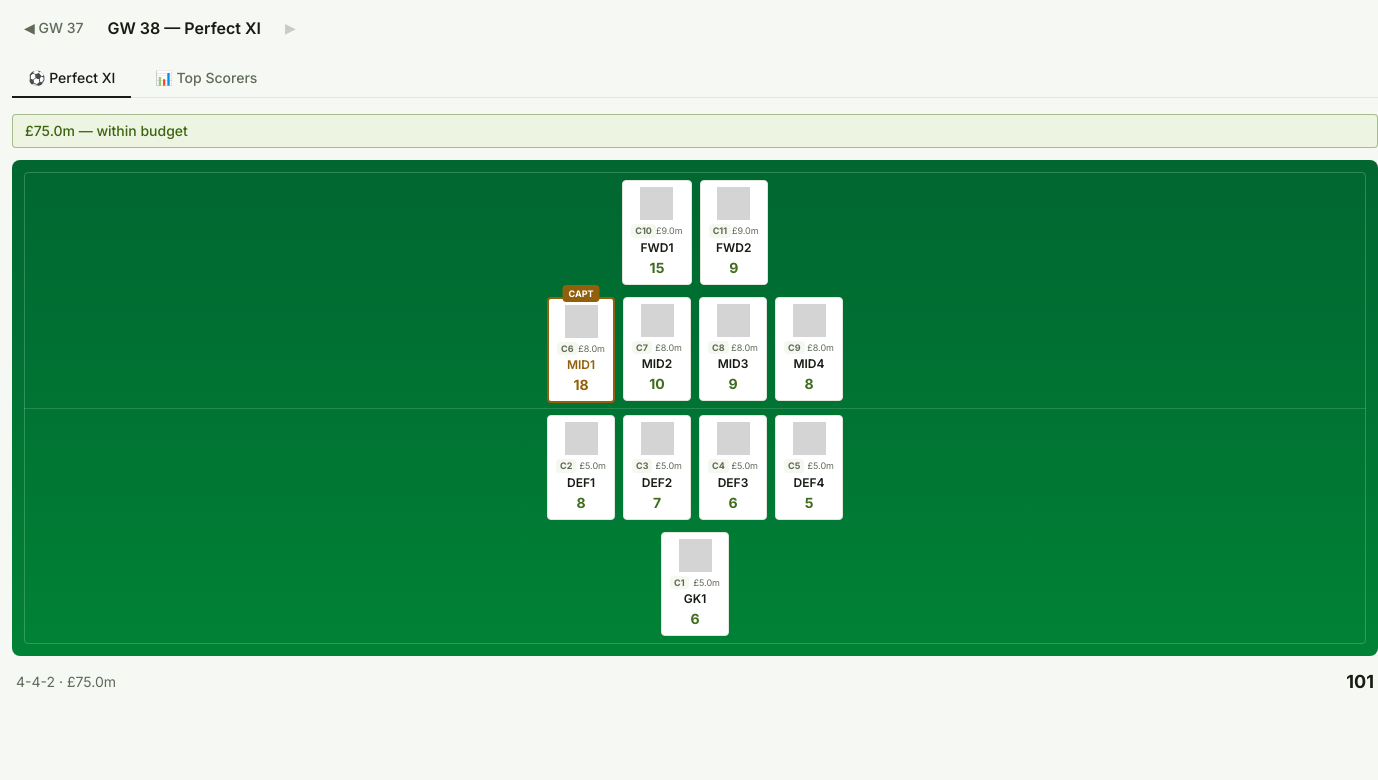
Test: PerfectGWTab › switches to Top Scorers tab on click
Click the tab "📊 Top Scorers": (206, 79) [139,60,273,98]
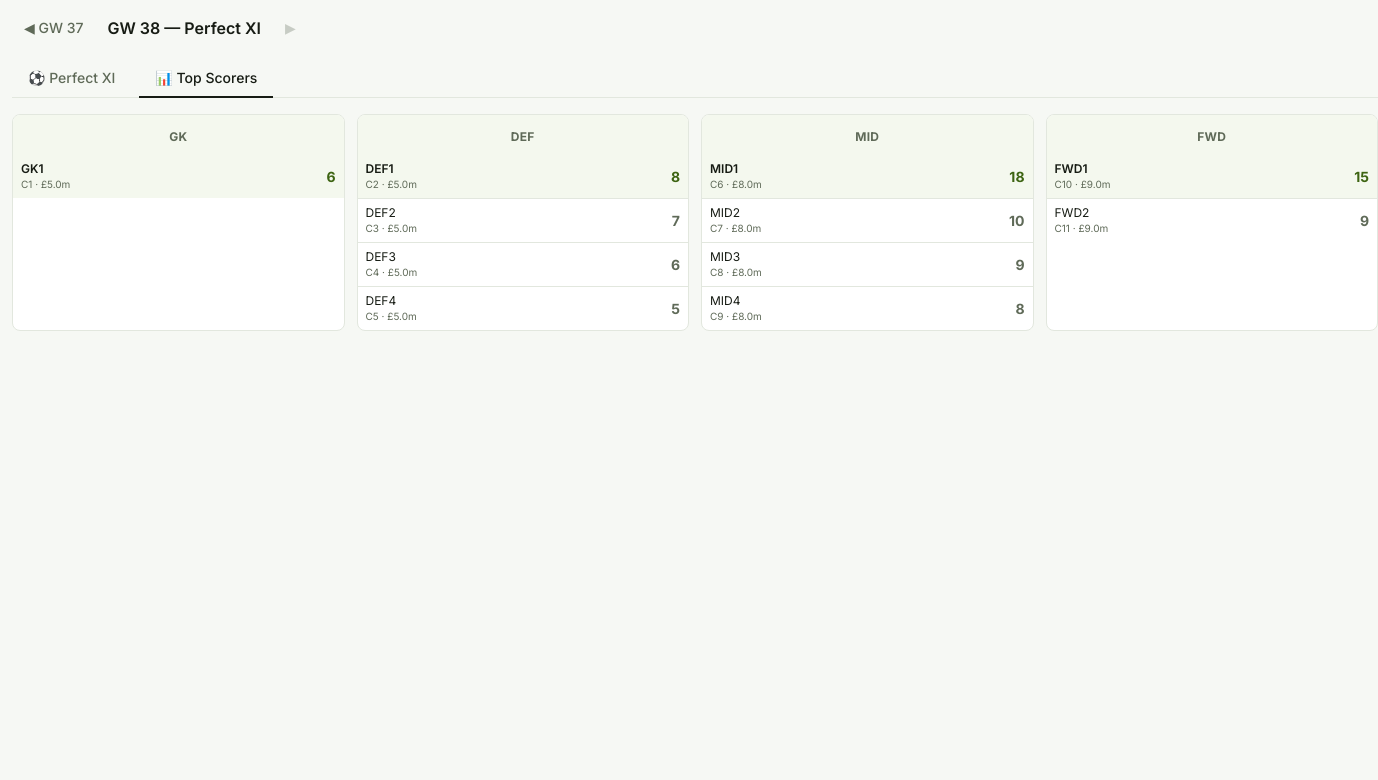
Check: the text "GK" is shown, box [169,129,187,144]
Check: the text "DEF" is shown, box [511,129,535,144]
